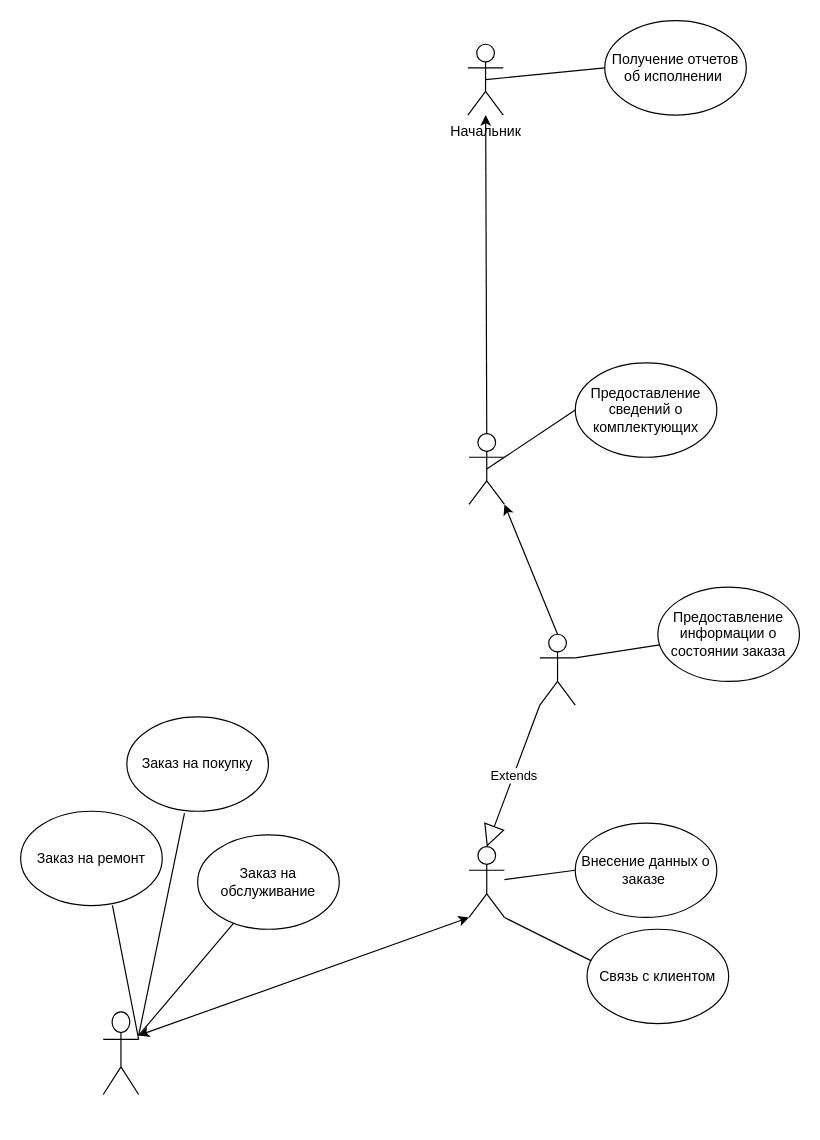
Image size: 820x1140. Some labels were removed from this diagram. Each missing label, with the centre of its shape:
"Заведующий склада" belongs at point 486,468.
"Клиент" belongs at point 120,1052.
"Мастер" belongs at point 557,669.
"Менеджер" belongs at point 486,881.
